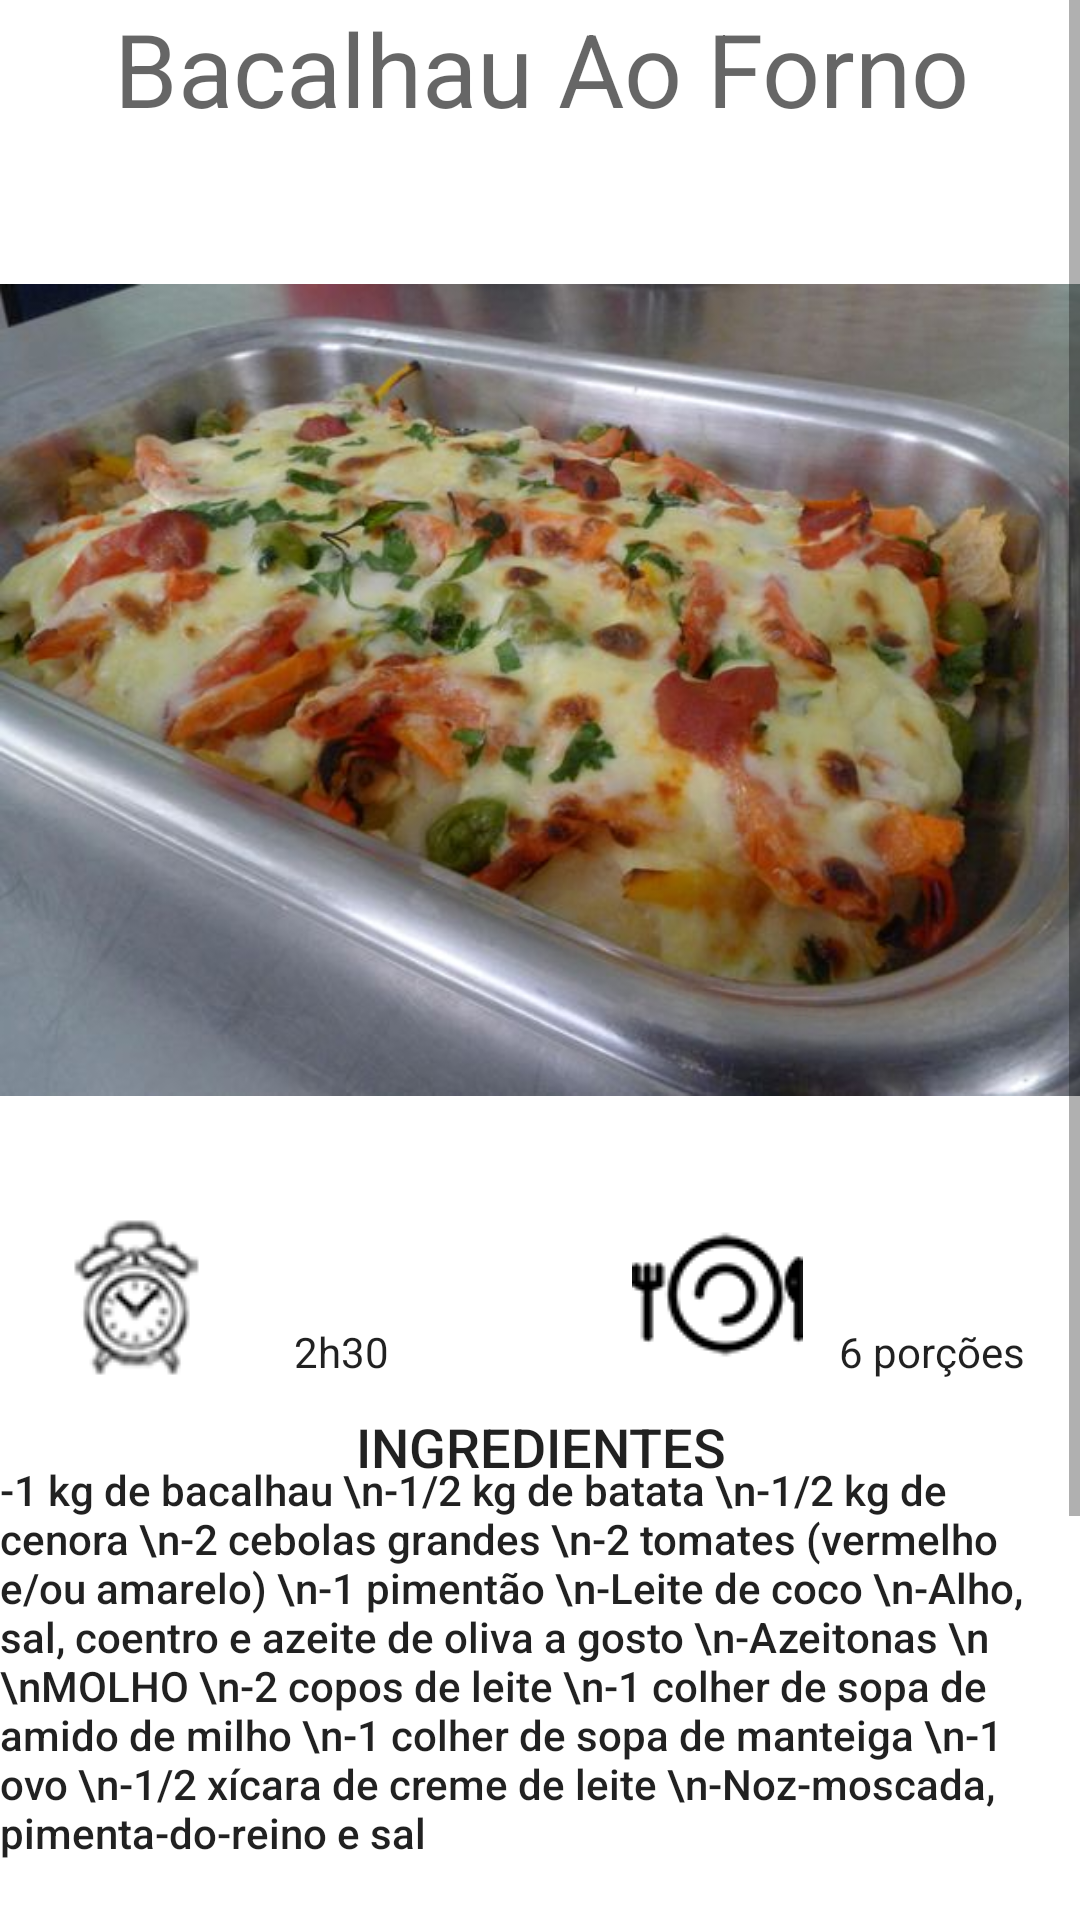

Where icons sit on this 1080*1920 app screen, as bbox(x1, y1, x2, y2):
porcao: bbox(632, 1233, 803, 1356)
preparo: bbox(74, 1220, 199, 1375)
